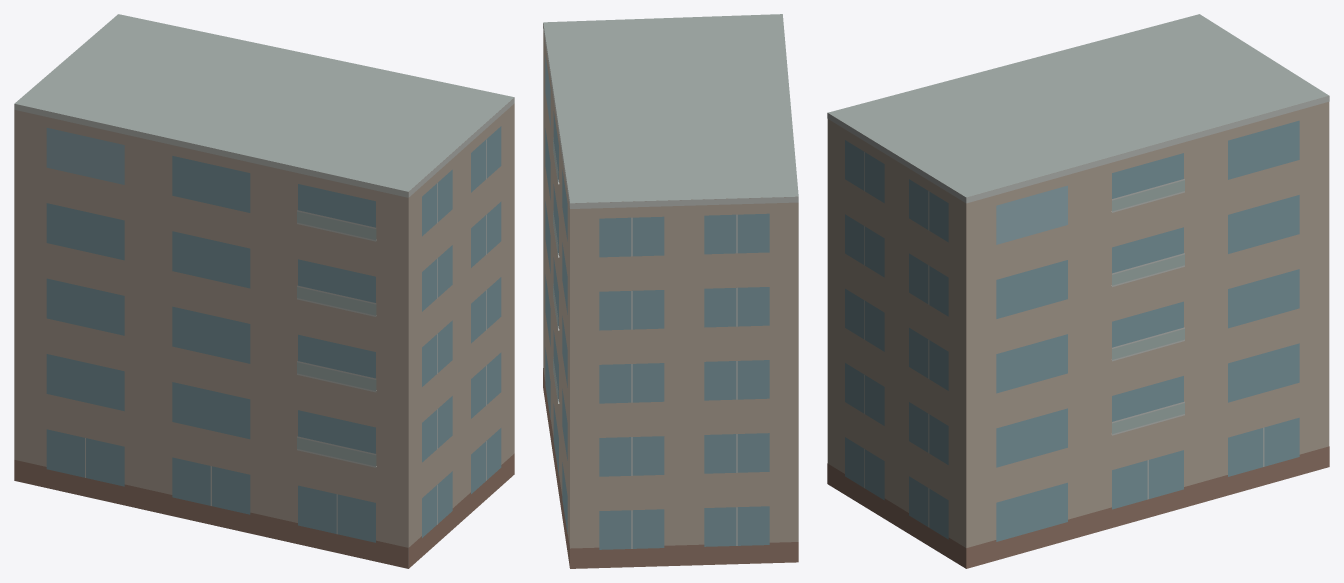
The model's file is survey-upis-32745107.glb.
The picture shows the model from 3 angles, left to right: view 1: azimuth 30°, elevation 25°; view 2: azimuth 150°, elevation 25°; view 3: azimuth 270°, elevation 25°; orthographic projection. The views are drawn at different scales.
Parts seen in each view (by area): view 1: survey-upis-32745107.tmp; view 2: survey-upis-32745107.tmp; view 3: survey-upis-32745107.tmp.
Part boxes in pixels (bbox=[...]): survey-upis-32745107.tmp: bbox=[14, 14, 514, 568]; survey-upis-32745107.tmp: bbox=[543, 14, 798, 568]; survey-upis-32745107.tmp: bbox=[827, 14, 1329, 568].
Size of the model in its own units: 16.23 by 15.3 by 18.75.
